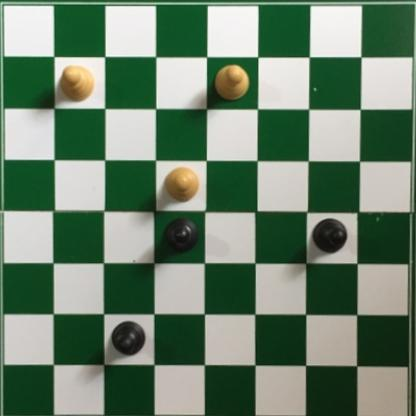black-pawn: (311, 216, 349, 257), (161, 217, 200, 255), (110, 319, 147, 359)
white-pawn: (162, 165, 200, 203), (57, 64, 93, 102), (213, 64, 250, 100)
